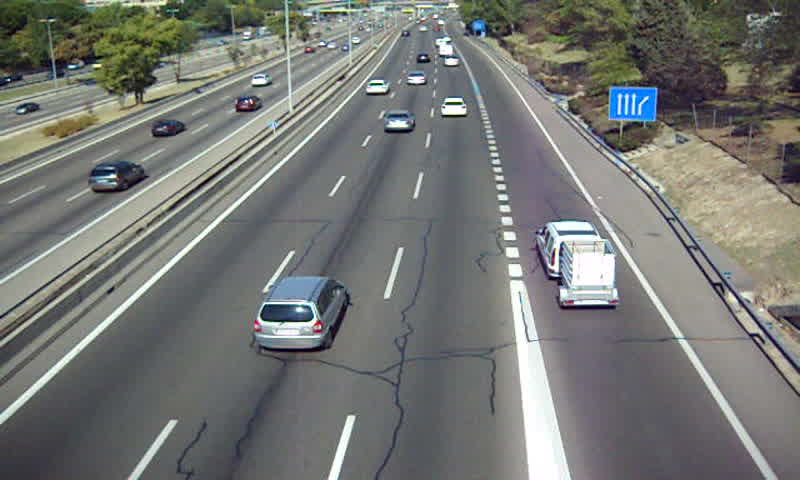car: (253, 276, 348, 350), (383, 110, 416, 133), (441, 97, 467, 117), (365, 78, 389, 96), (404, 71, 428, 87), (444, 55, 461, 67)
van: (535, 222, 603, 277)
